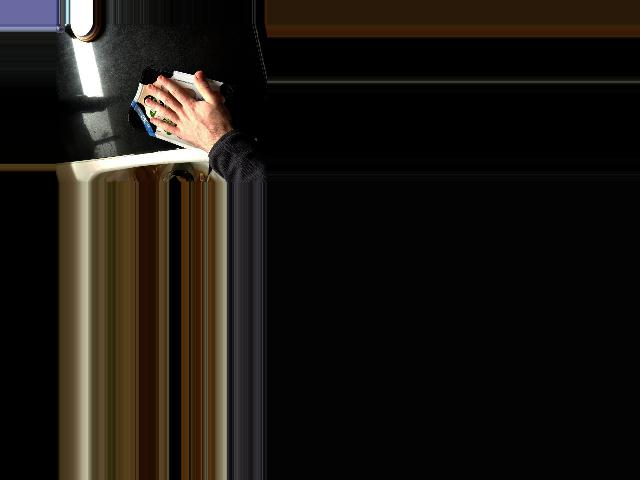cheese: (126, 63, 235, 158)
